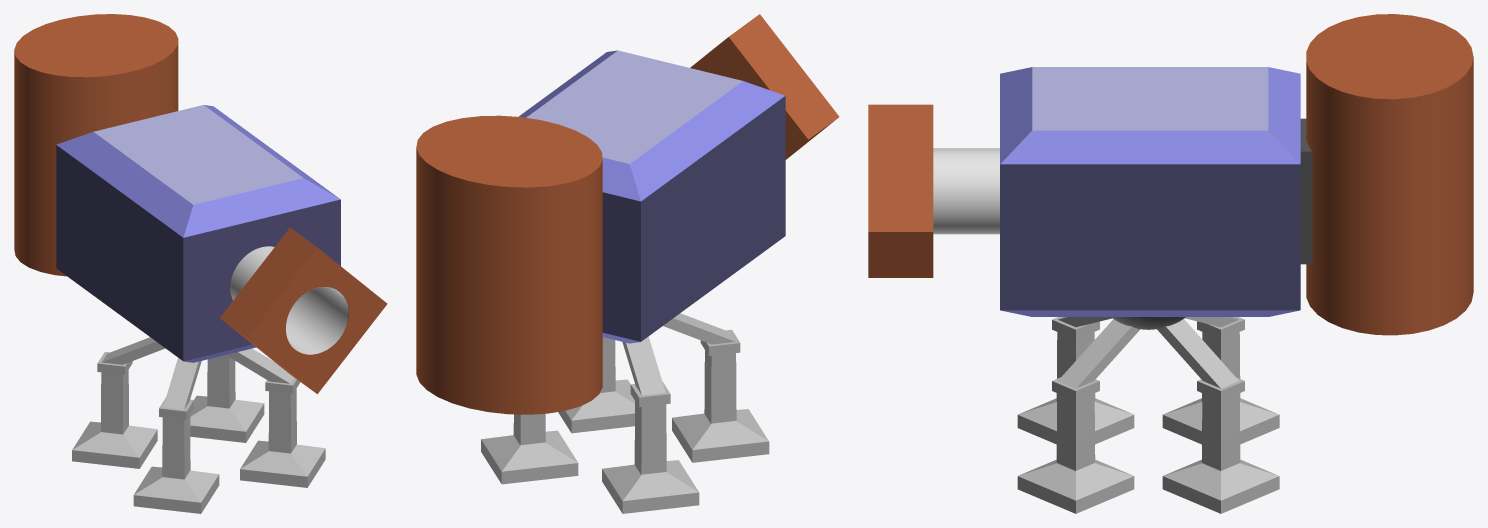
Rendered from kj-turret.fbx.
The picture shows the model from 3 angles, left to right: view 1: azimuth 30°, elevation 25°; view 2: azimuth 150°, elevation 25°; view 3: azimuth 270°, elevation 25°; orthographic projection. The views are drawn at different scales.
Visible parts, largest first — view 1: kj_turret_body, kj_turret_ammo, kj_turret_legs, kj_turret_muzzle, kj_turret_barrel; view 2: kj_turret_ammo, kj_turret_body, kj_turret_legs, kj_turret_muzzle; view 3: kj_turret_body, kj_turret_ammo, kj_turret_legs, kj_turret_muzzle, kj_turret_barrel, kj_turret_ammo_connect.
Boxes of the visible parts, x1=… form: kj_turret_body: x1=56, y1=105, x2=340, y2=362; kj_turret_ammo: x1=14, y1=14, x2=178, y2=276; kj_turret_legs: x1=72, y1=337, x2=325, y2=513; kj_turret_muzzle: x1=220, y1=227, x2=387, y2=394; kj_turret_barrel: x1=230, y1=246, x2=348, y2=354; kj_turret_ammo: x1=416, y1=115, x2=602, y2=414; kj_turret_body: x1=518, y1=50, x2=785, y2=343; kj_turret_legs: x1=481, y1=313, x2=769, y2=513; kj_turret_muzzle: x1=690, y1=14, x2=839, y2=159; kj_turret_body: x1=1000, y1=67, x2=1300, y2=316; kj_turret_ammo: x1=1306, y1=14, x2=1473, y2=335; kj_turret_legs: x1=1017, y1=317, x2=1279, y2=513; kj_turret_muzzle: x1=868, y1=104, x2=933, y2=277; kj_turret_barrel: x1=933, y1=148, x2=999, y2=234; kj_turret_ammo_connect: x1=1300, y1=118, x2=1312, y2=264.
Bounding box in the file's own units: 1.22 × 2.06 × 2.82.
